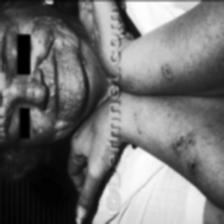Unclassified: (63, 23, 84, 124), (169, 123, 207, 169), (160, 36, 184, 88)
